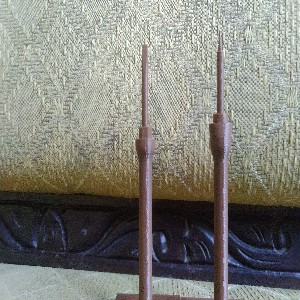obeng: (135, 43, 157, 300)
solder: (207, 28, 233, 300)
